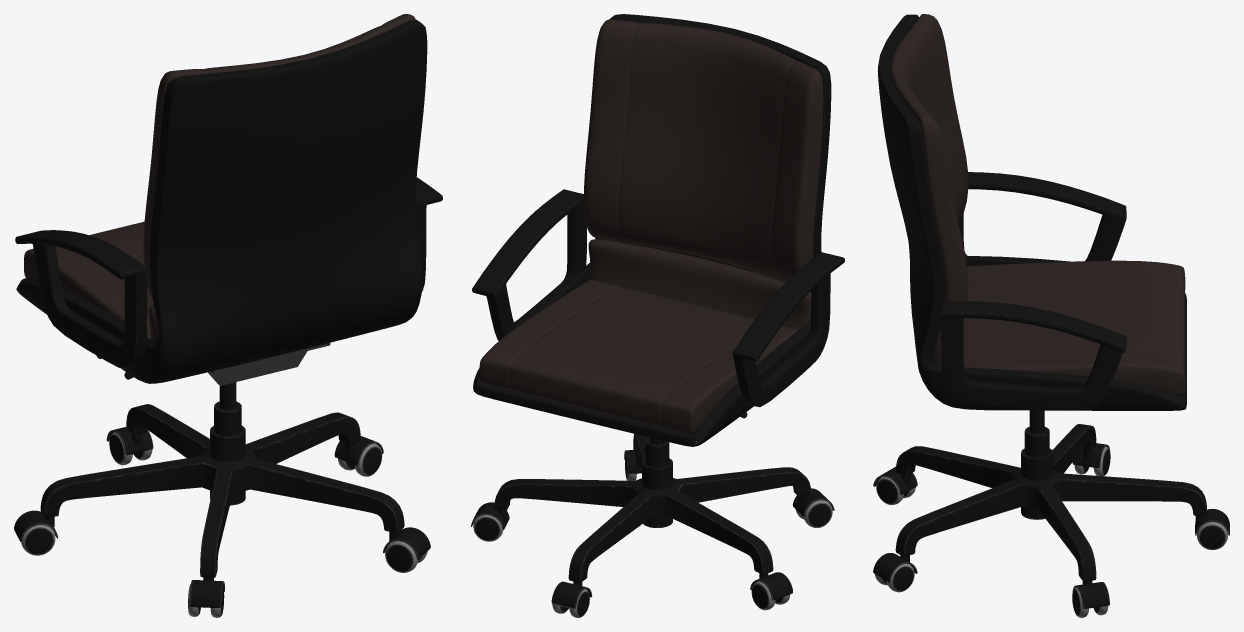
File: Chair33.fbx
The picture shows the model from 3 angles, left to right: view 1: azimuth 30°, elevation 25°; view 2: azimuth 150°, elevation 25°; view 3: azimuth 270°, elevation 25°; orthographic projection. The views are drawn at different scales.
Visible parts, largest first — view 1: Chair33; view 2: Chair33; view 3: Chair33.
Part boxes in pixels (x1,y1,x2,y2): Chair33: (14,14,442,617); Chair33: (471,14,844,617); Chair33: (873,14,1229,617).
Size of the model in its own units: 74.33 by 105 by 70.74.
